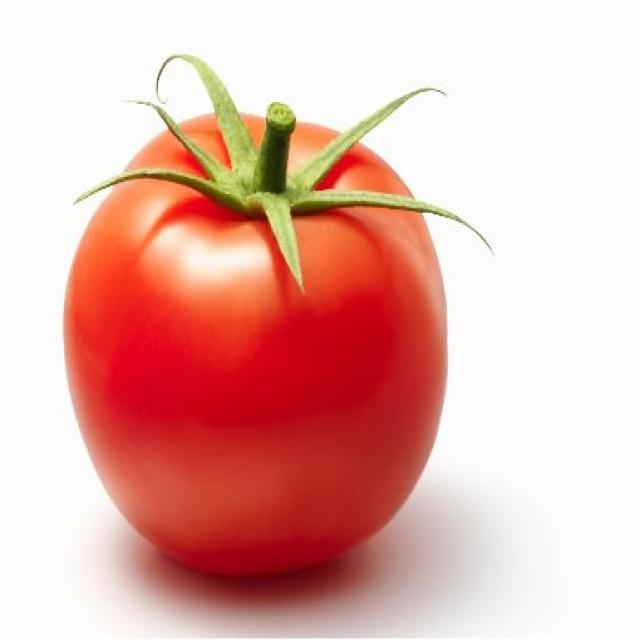ripe tomato: (47, 78, 466, 594)
